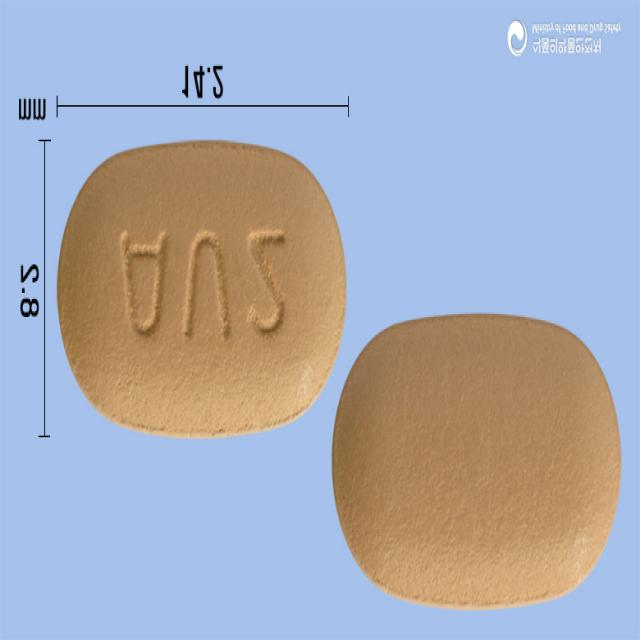Ciprocin: (57, 136, 347, 439), (331, 314, 621, 610)
